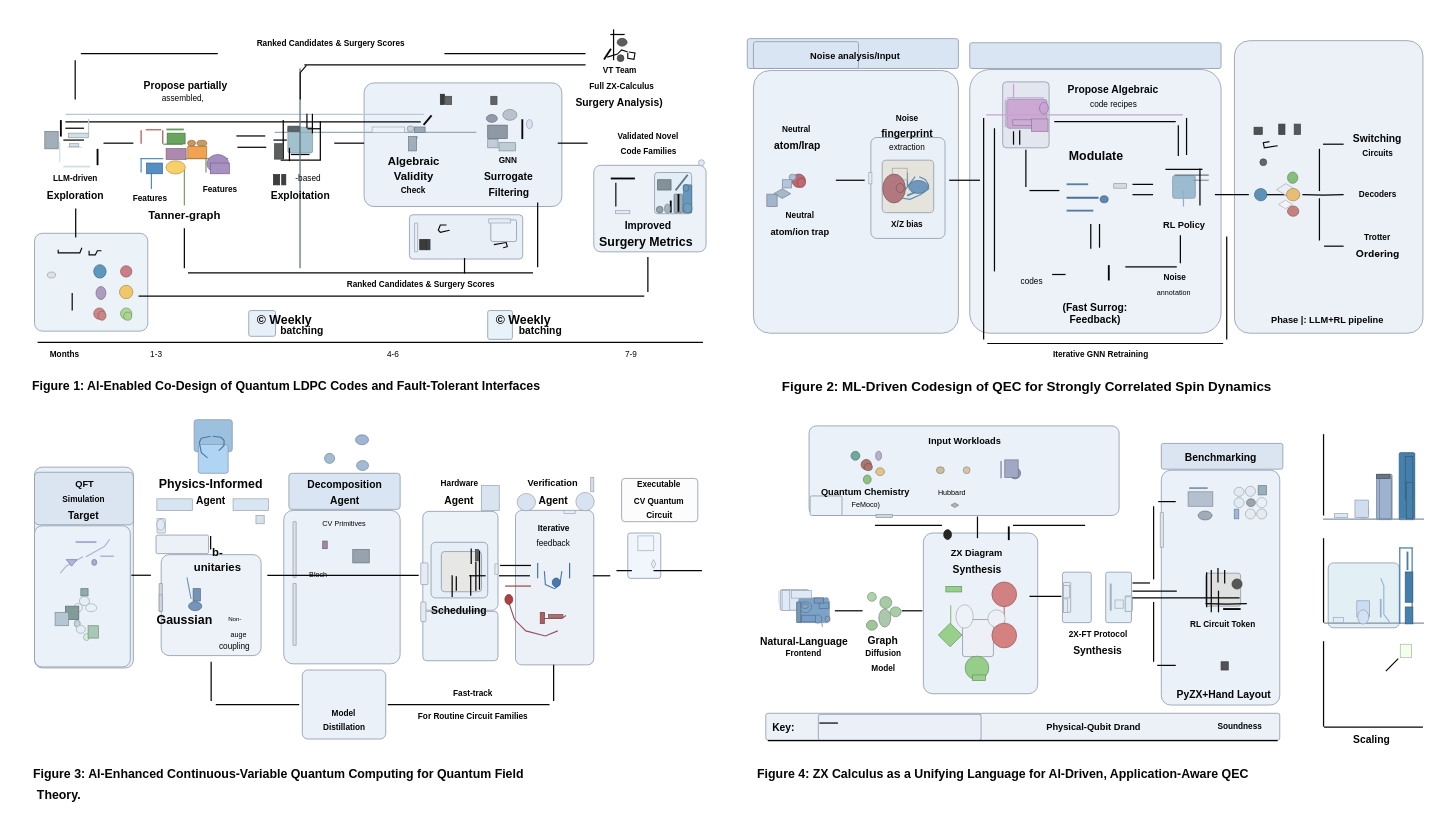
The diagram is 1452 pixels wide and 826 high, and some of its shapes have lost their labels. The box of each missing label's shape, as (x1, y1, x2, y2) in pixels:
Input Metrocs: (817, 713, 981, 740)
LLM-Driven Recipe Composition: (969, 42, 1221, 68)
